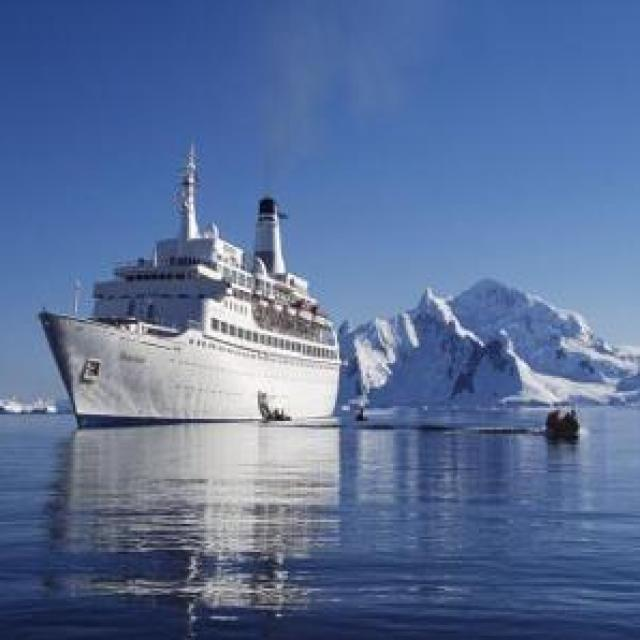passenger ship: (39, 185, 343, 423)
